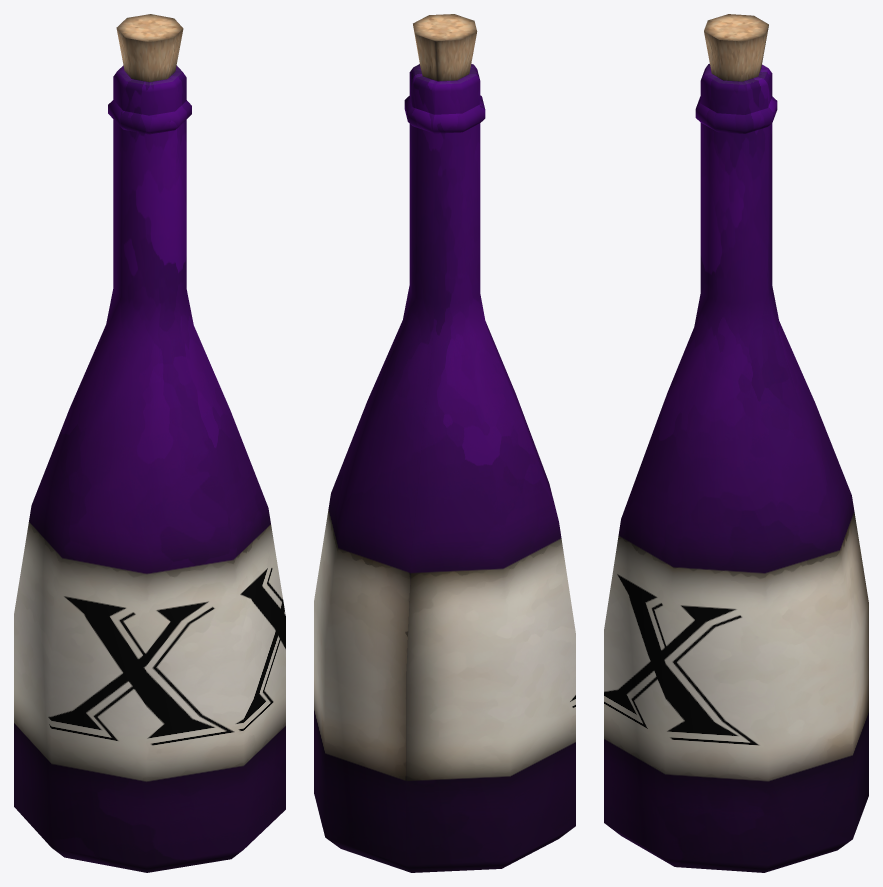
File: thinBottle.fbx
3 views of the same model, side by side, from view 1: azimuth 30°, elevation 25°; view 2: azimuth 150°, elevation 25°; view 3: azimuth 270°, elevation 25° (orthographic).
Parts seen in each view (by area): view 1: thinBottle; view 2: thinBottle; view 3: thinBottle.
Part boxes in pixels (x1=…): thinBottle: x1=14, y1=14, x2=285, y2=872; thinBottle: x1=314, y1=14, x2=575, y2=872; thinBottle: x1=604, y1=14, x2=868, y2=872.
Size of the model in its own units: 4.96 by 16.6 by 4.96.
1 material, 1 textured.
